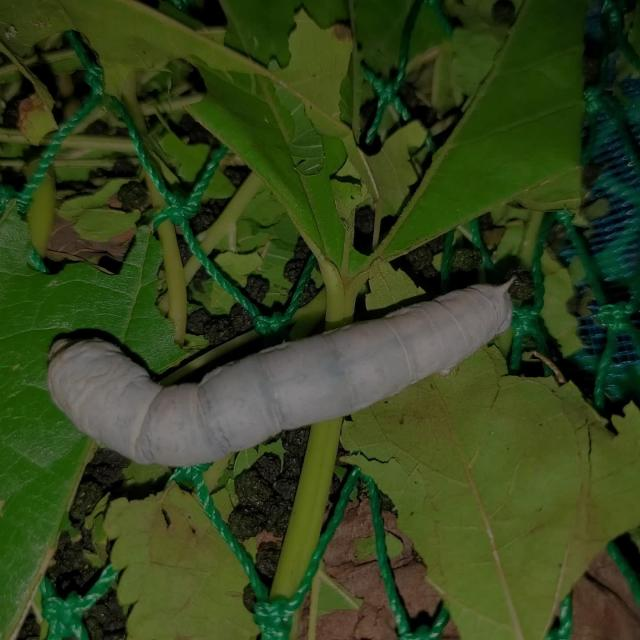Healthy: (12, 234, 535, 490)
